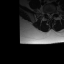CCS_normal: (49, 11, 51, 19)
LFS_normal: (53, 9, 55, 16)
LLS_normal: (51, 10, 53, 18)
RFS_normal: (45, 9, 47, 16)
RLS_normal: (47, 10, 49, 18)
